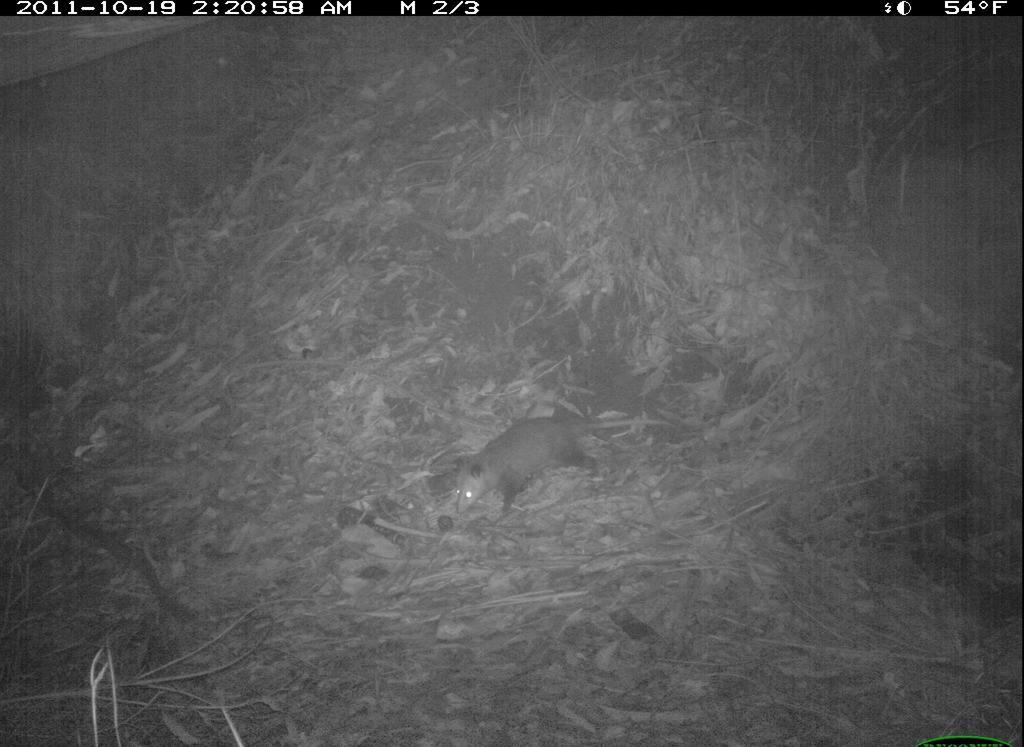opossum: (447, 408, 680, 528)
